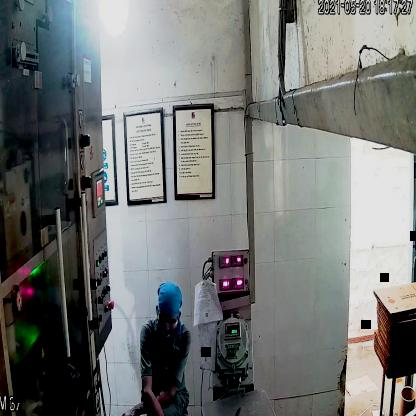goggles: (154, 306, 183, 334)
